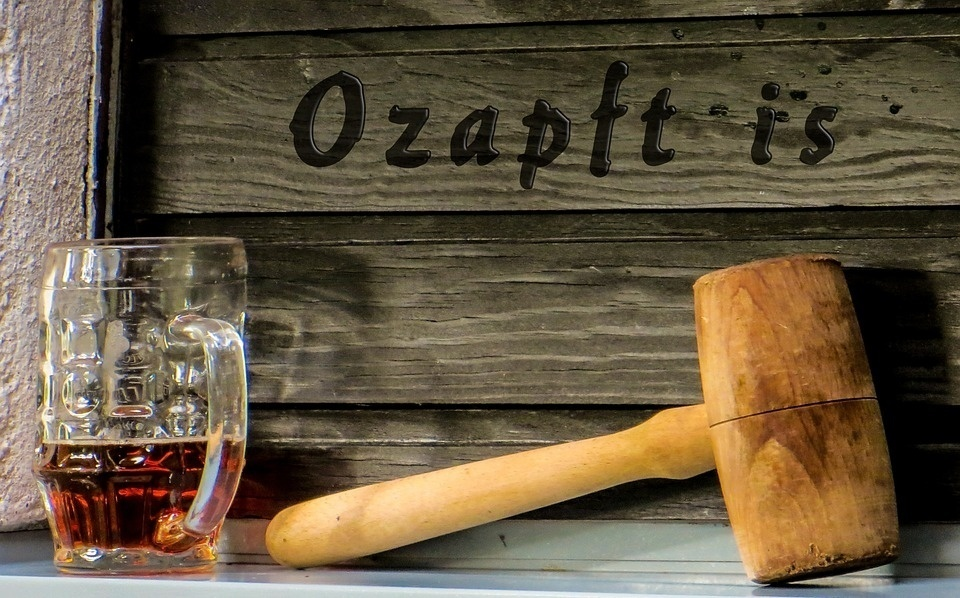whiskey: (41, 230, 241, 567)
